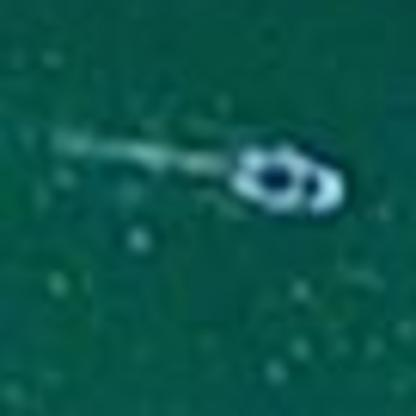ship: (219, 132, 351, 235)
